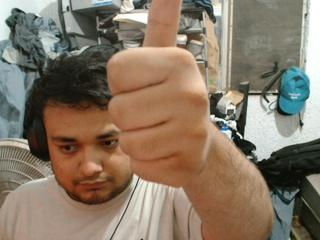Adelante: (103, 1, 233, 196)
